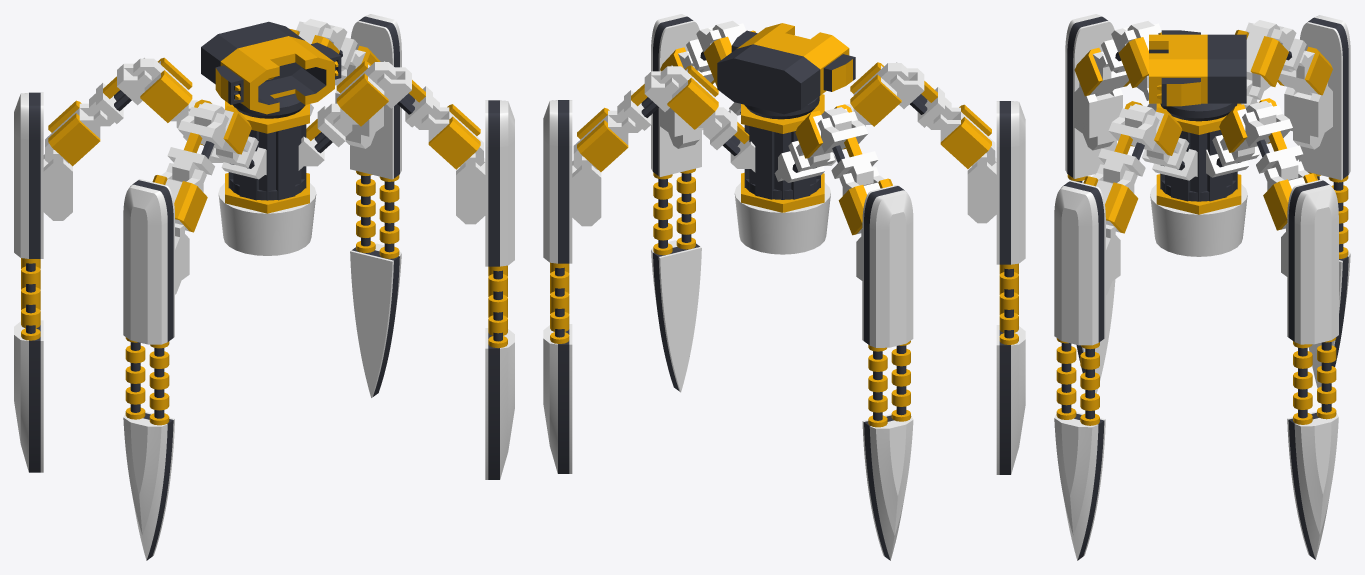
File: SpiderBoss4Legs.fbx
The picture shows the model from 3 angles, left to right: view 1: azimuth 30°, elevation 25°; view 2: azimuth 150°, elevation 25°; view 3: azimuth 270°, elevation 25°; orthographic projection.
Visible parts, largest first — view 1: hull_back (×4), hull_frontSmooth (×4), leg_cover (×7), leg_pipes (×6), tube_steel (×6), engine_low, clipBarrel_large, leg_default (×4), engine_round, weapon_turretSmall, detail_tire; view 2: hull_back (×4), hull_frontSmooth (×4), leg_cover (×7), leg_pipes (×6), tube_steel (×6), engine_low, clipBarrel_large, engine_round, leg_default (×3), weapon_turretSmall; view 3: hull_back (×4), leg_cover (×8), hull_frontSmooth (×4), leg_pipes (×6), tube_steel (×5), engine_low, leg_default (×3), engine_round, clipBarrel_large, weapon_turretSmall, detail_tire.
Part boxes in pixels (left/top/right/bottom): hull_back (×4): left=14, top=14, right=514, bottom=344; hull_frontSmooth (×4): left=14, top=243, right=514, bottom=560; leg_cover (×7): left=45, top=18, right=483, bottom=232; leg_pipes (×6): left=89, top=21, right=439, bottom=181; tube_steel (×6): left=21, top=171, right=507, bottom=425; engine_low: left=201, top=21, right=334, bottom=114; clipBarrel_large: left=225, top=101, right=309, bottom=213; leg_default (×4): left=43, top=90, right=485, bottom=294; engine_round: left=218, top=179, right=316, bottom=255; weapon_turretSmall: left=215, top=65, right=243, bottom=104; detail_tire: left=232, top=93, right=305, bottom=118; hull_back (×4): left=543, top=14, right=1025, bottom=347; hull_frontSmooth (×4): left=543, top=240, right=1025, bottom=560; leg_cover (×7): left=573, top=20, right=995, bottom=235; leg_pipes (×6): left=617, top=23, right=951, bottom=185; tube_steel (×6): left=550, top=168, right=1018, bottom=427; engine_low: left=717, top=23, right=849, bottom=114; clipBarrel_large: left=741, top=94, right=824, bottom=212; engine_round: left=734, top=179, right=830, bottom=254; leg_default (×3): left=572, top=108, right=996, bottom=226; weapon_turretSmall: left=823, top=54, right=855, bottom=91; hull_back (×4): left=1054, top=14, right=1350, bottom=345; leg_cover (×8): left=1074, top=20, right=1332, bottom=233; hull_frontSmooth (×4): left=1054, top=252, right=1350, bottom=560; leg_pipes (×6): left=1098, top=22, right=1306, bottom=183; tube_steel (×5): left=1056, top=175, right=1348, bottom=425; engine_low: left=1149, top=34, right=1246, bottom=103; leg_default (×3): left=1074, top=82, right=1332, bottom=295; engine_round: left=1150, top=180, right=1247, bottom=256; clipBarrel_large: left=1156, top=103, right=1241, bottom=214; weapon_turretSmall: left=1157, top=78, right=1200, bottom=106; detail_tire: left=1160, top=103, right=1237, bottom=121.
Bounding box in the file's own units: 44.68 × 48.6 × 30.34.
